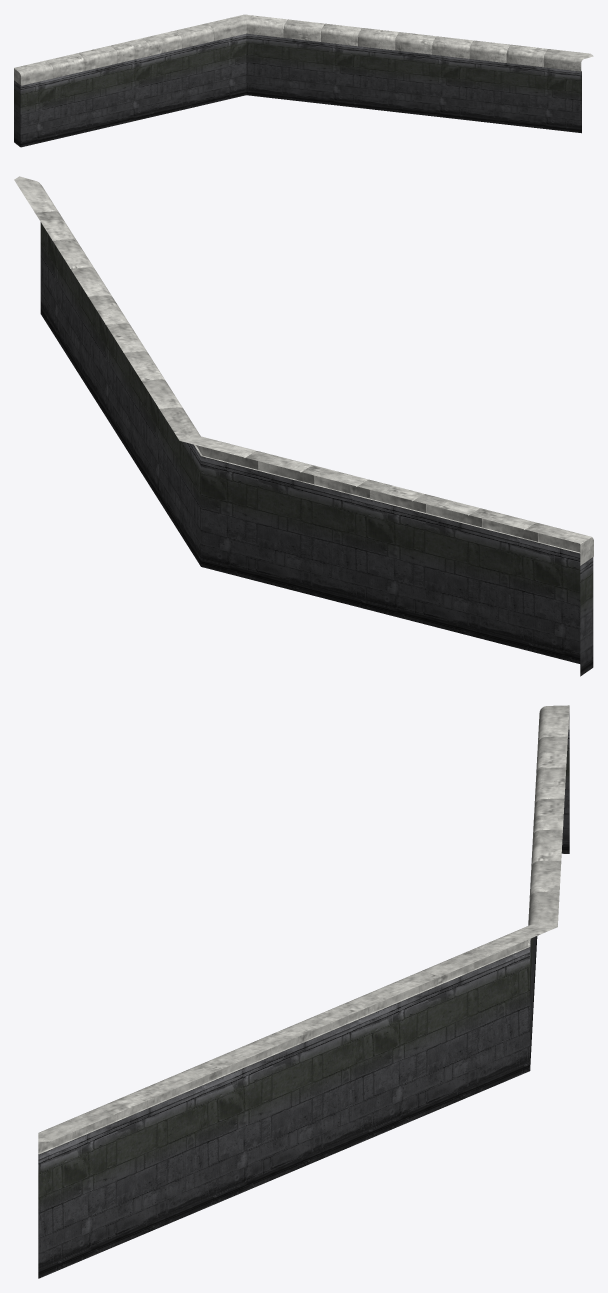
The model's file is SM_Banchina_Testata.fbx.
3 views of the same model, one above another, from view 1: azimuth 30°, elevation 25°; view 2: azimuth 150°, elevation 25°; view 3: azimuth 270°, elevation 25° (orthographic). The views are drawn at different scales.
Visible parts, largest first — view 1: SM_Banchina_Testata; view 2: SM_Banchina_Testata; view 3: SM_Banchina_Testata.
Boxes of the visible parts, <box> form: SM_Banchina_Testata: <box>14,14,593,147</box>; SM_Banchina_Testata: <box>14,176,593,676</box>; SM_Banchina_Testata: <box>38,705,569,1278</box>.
Size of what is drawn, in the model's own units: 1887 by 970 by 300.
Materials: 2 (2 with a texture image).
